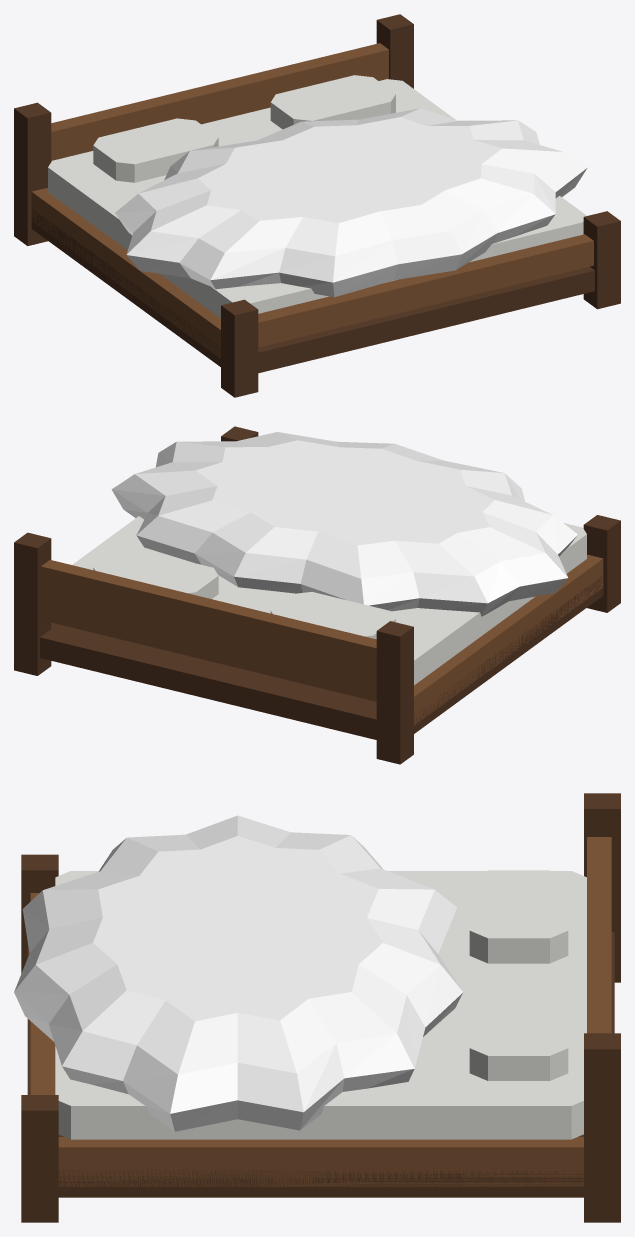
Rendered from vfem2_double_fur_bed.obj.
3 views of the same model, one above another, from view 1: azimuth 30°, elevation 25°; view 2: azimuth 150°, elevation 25°; view 3: azimuth 270°, elevation 25° (orthographic). The views are drawn at different scales.
Parts seen in each view (by area): view 1: vfem2_double_fur_bed; view 2: vfem2_double_fur_bed; view 3: vfem2_double_fur_bed.
Part boxes in pixels (bbox=[...]): vfem2_double_fur_bed: bbox=[14, 14, 620, 397]; vfem2_double_fur_bed: bbox=[14, 426, 620, 764]; vfem2_double_fur_bed: bbox=[14, 793, 620, 1222].
Size of the model in its own units: 2.21 by 0.62 by 1.96.
